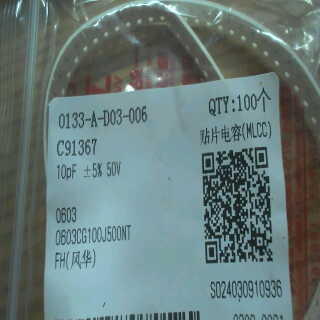10pF: (54, 161, 79, 185)
